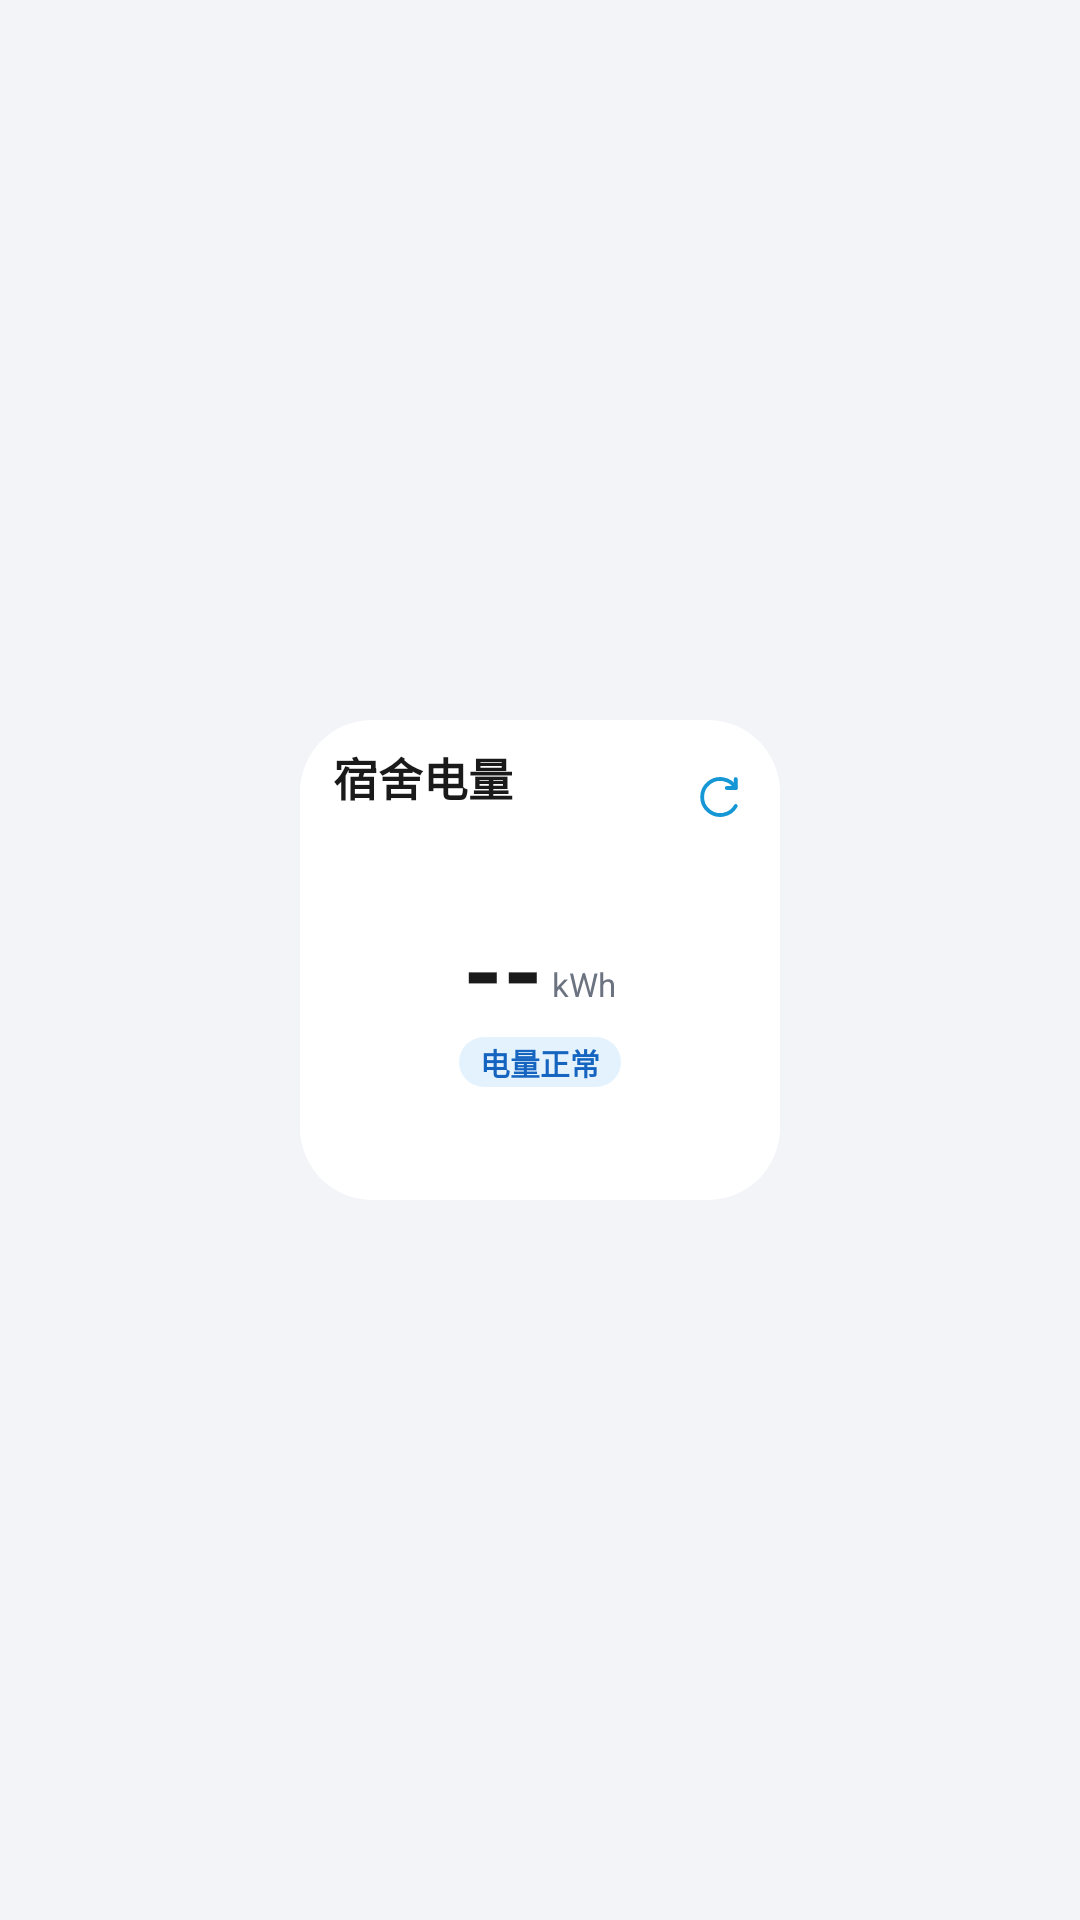

Screen size 1080w x 1920h. Icon name, then its box in pixels as (x1, y1, x2, y2):
刷新电量: (700, 777, 738, 817)
